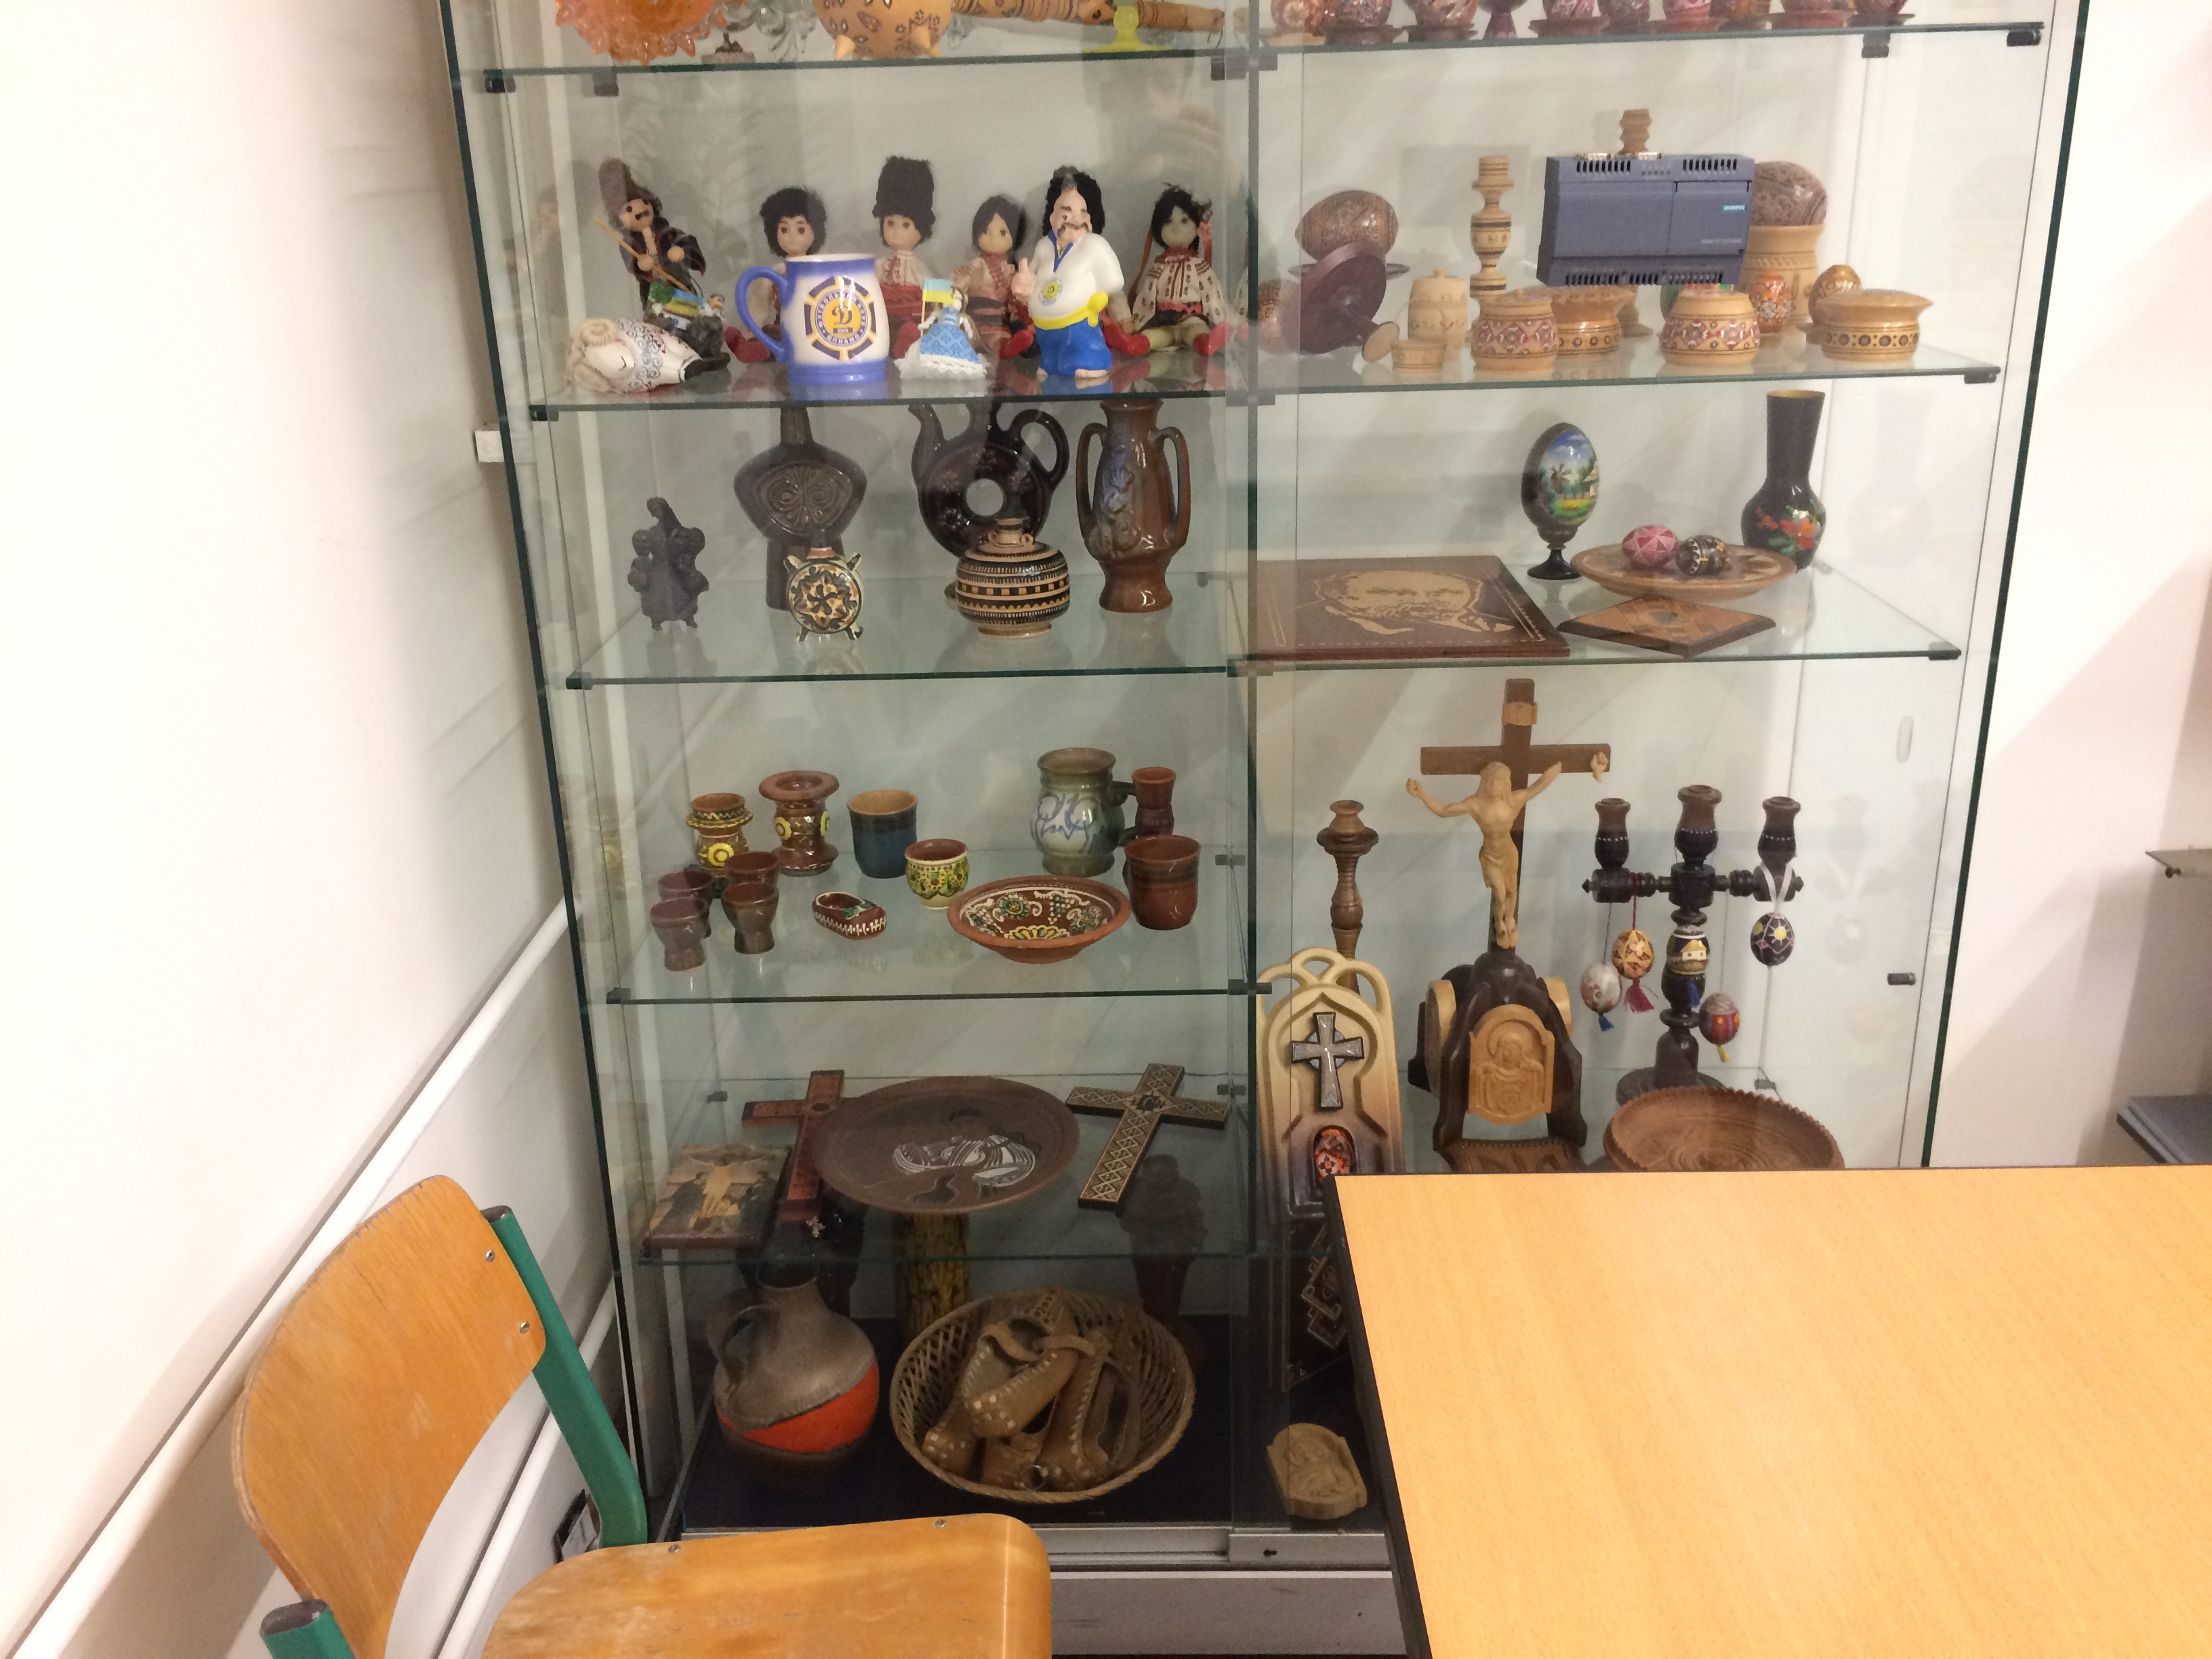iot2000: (1534, 150, 1756, 289)
